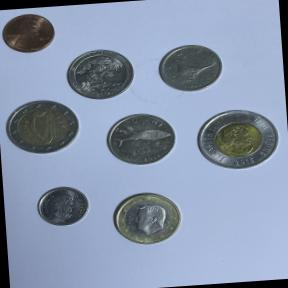coin: (192, 103, 285, 177), (106, 184, 186, 250), (0, 94, 82, 158), (100, 108, 179, 170), (61, 46, 137, 102), (30, 179, 92, 232), (0, 10, 58, 58)
